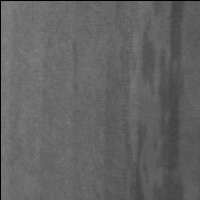inclusion: (138, 2, 186, 200), (127, 118, 151, 200), (66, 37, 84, 95)
